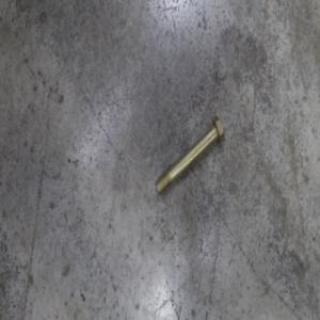Bolttrack_idkeyframe: (154, 114, 224, 195)
